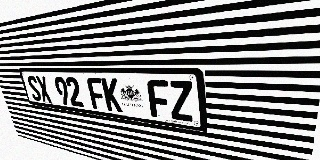2: (65, 77, 84, 107)
9: (53, 76, 71, 105)
F: (147, 80, 171, 119), (86, 78, 107, 110)
K: (101, 78, 123, 112)
S: (26, 76, 43, 102)
X: (35, 76, 52, 103)
Z: (168, 80, 194, 122)
